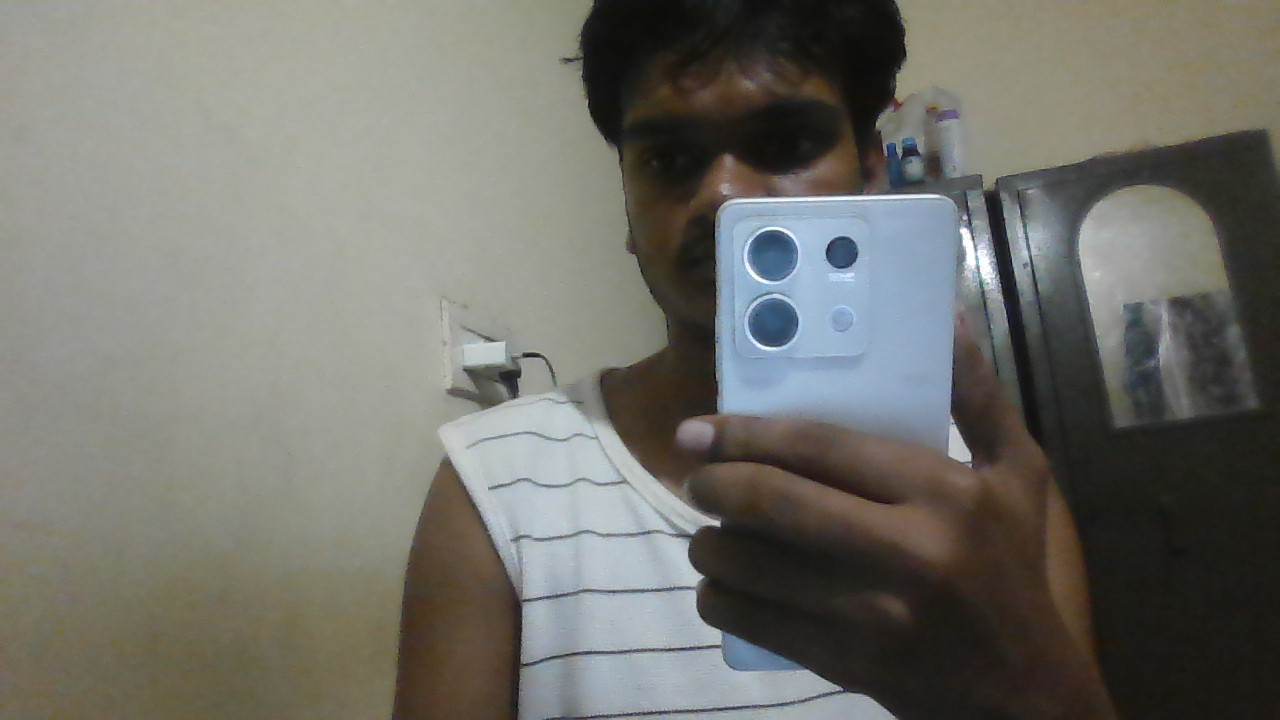phone: (721, 199, 953, 415)
